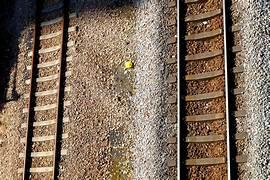Plastic: (122, 58, 132, 71)
